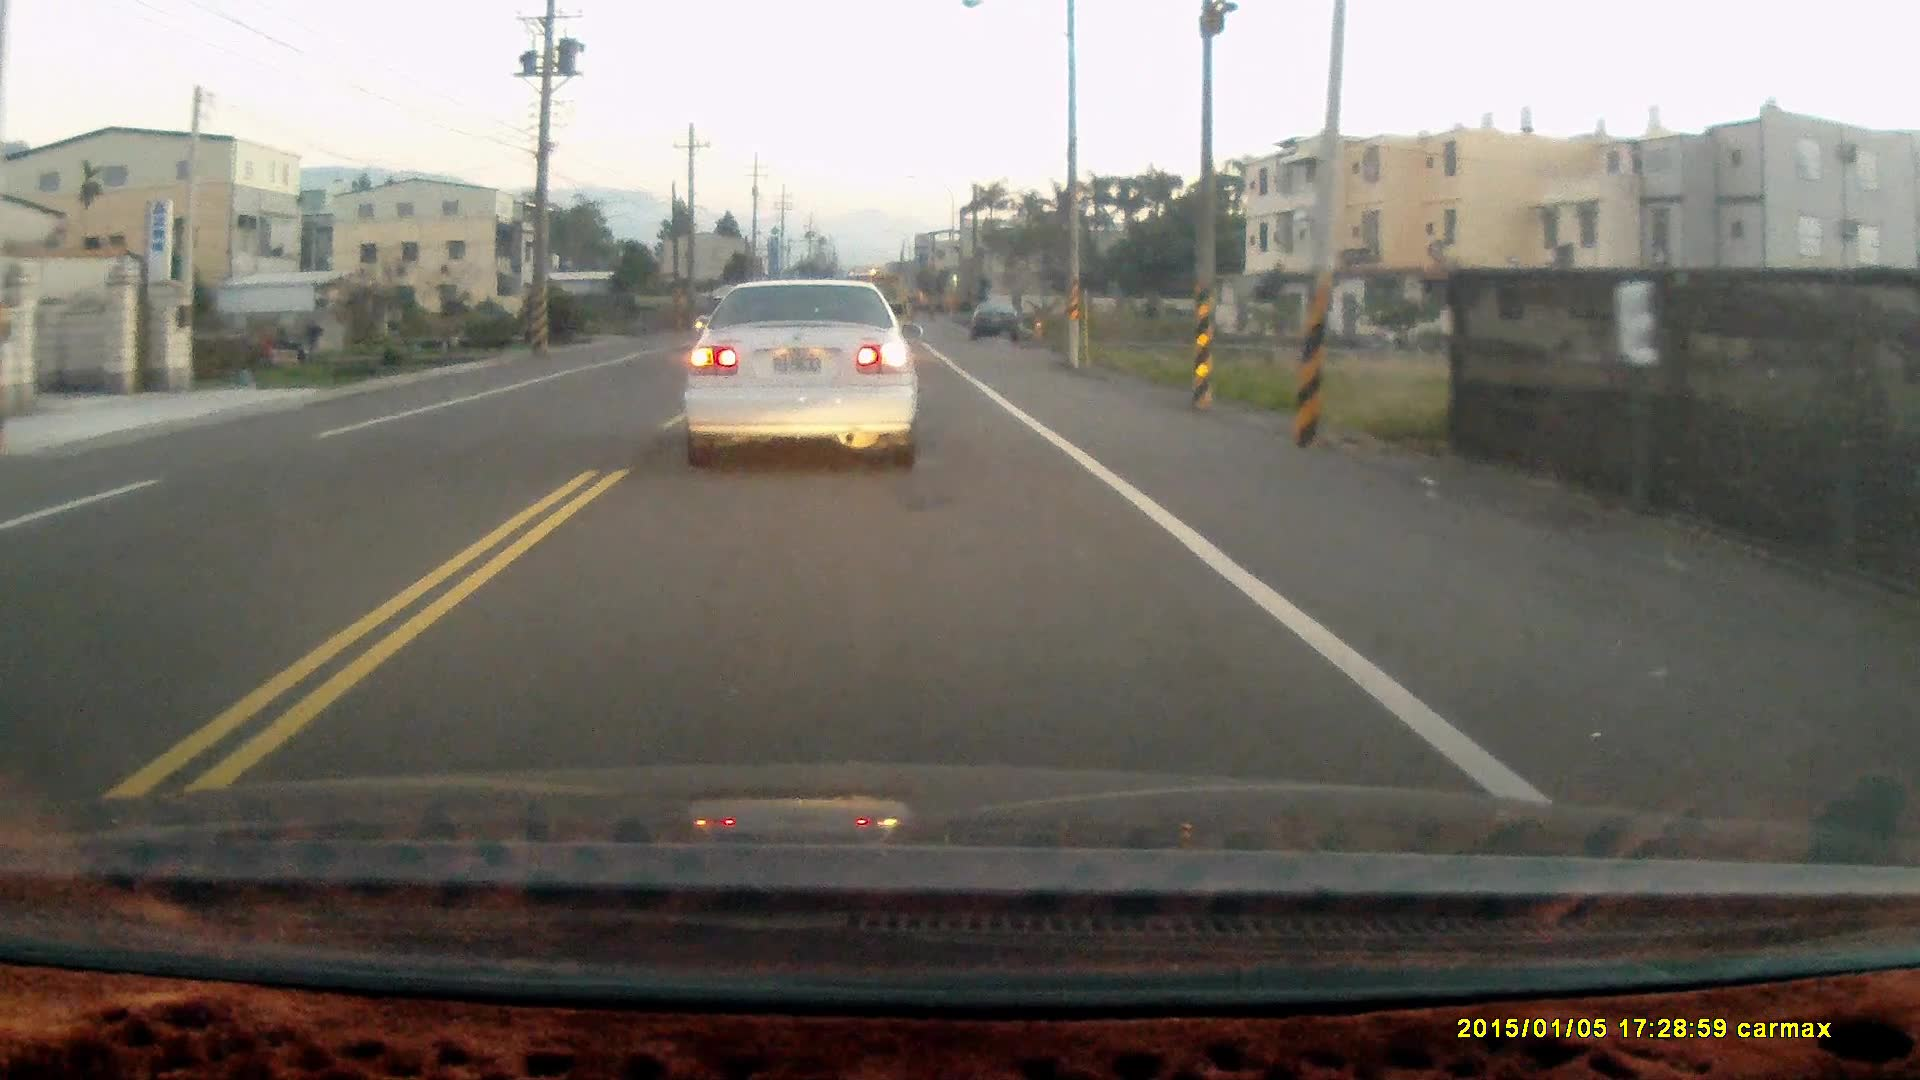vehicle: (684, 277, 924, 469), (967, 297, 1025, 344)
